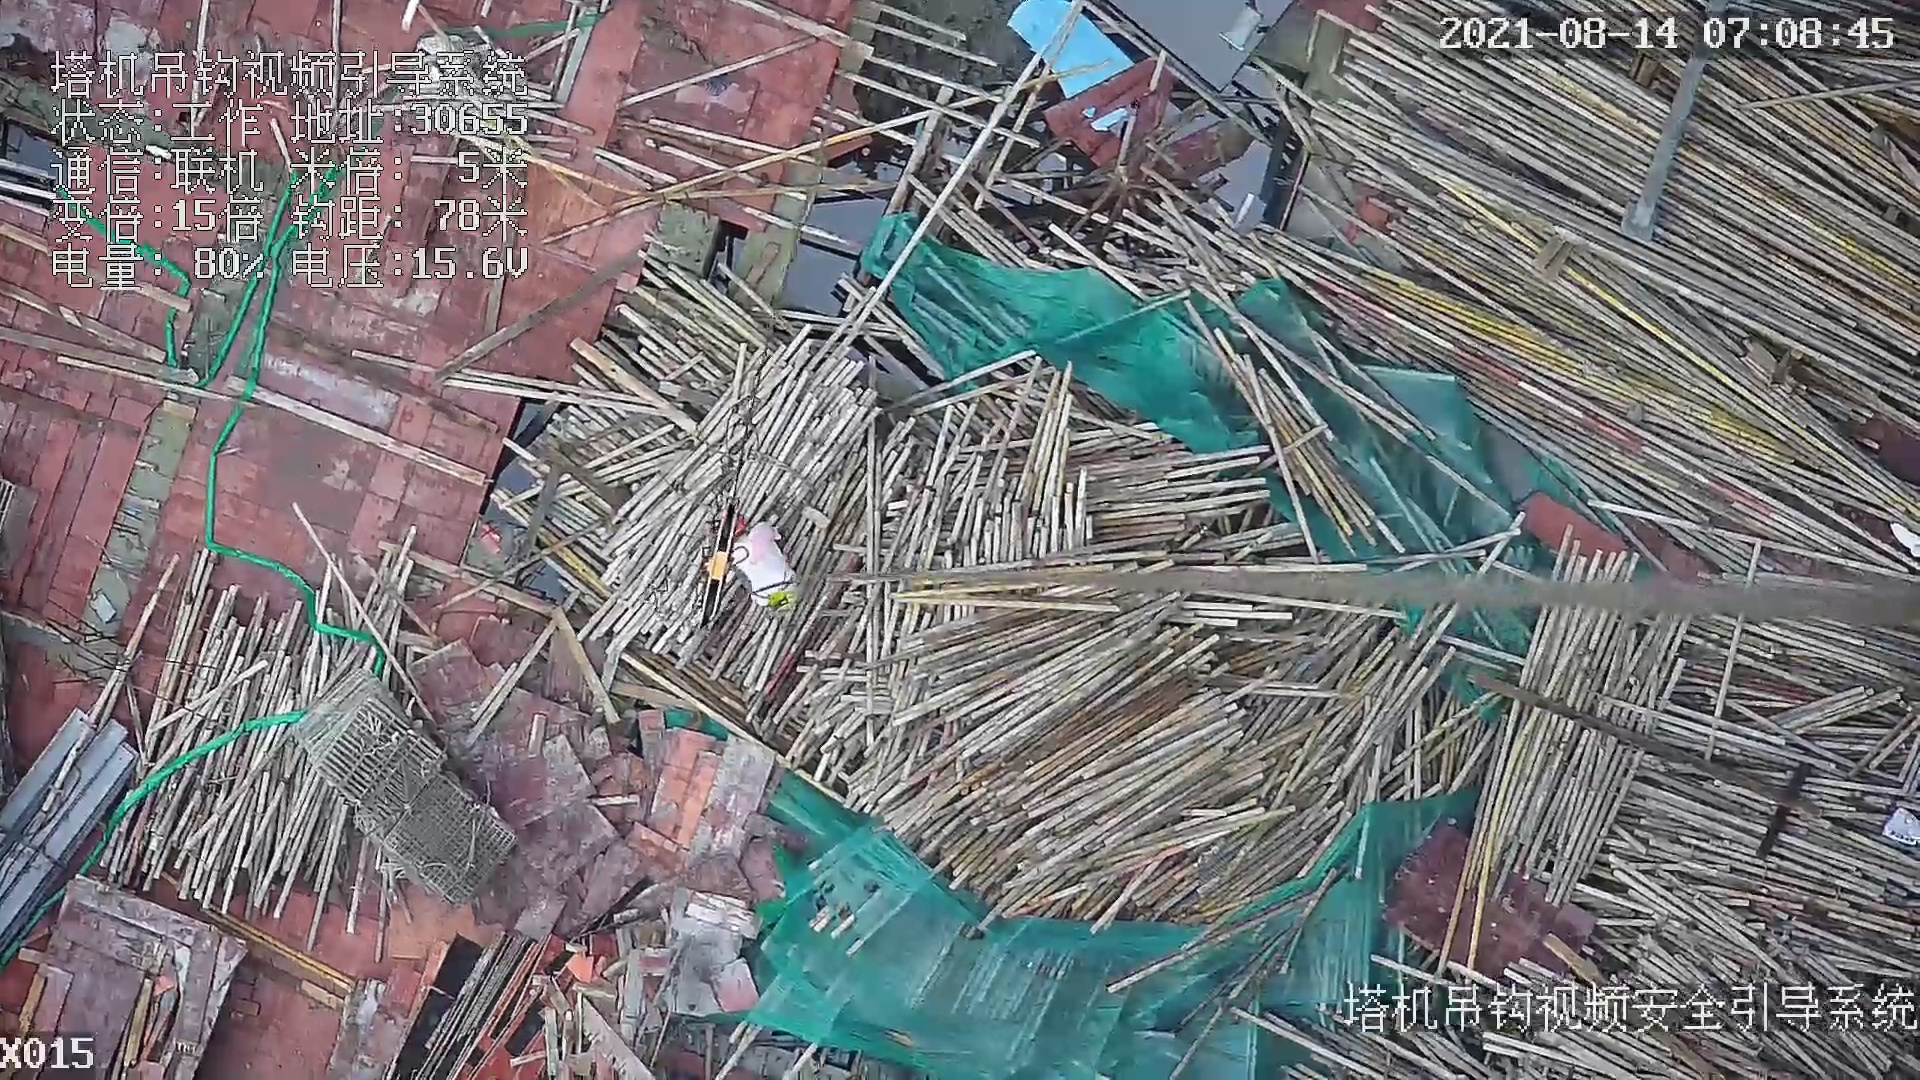hook: (699, 489, 738, 630)
person: (715, 504, 795, 603)
